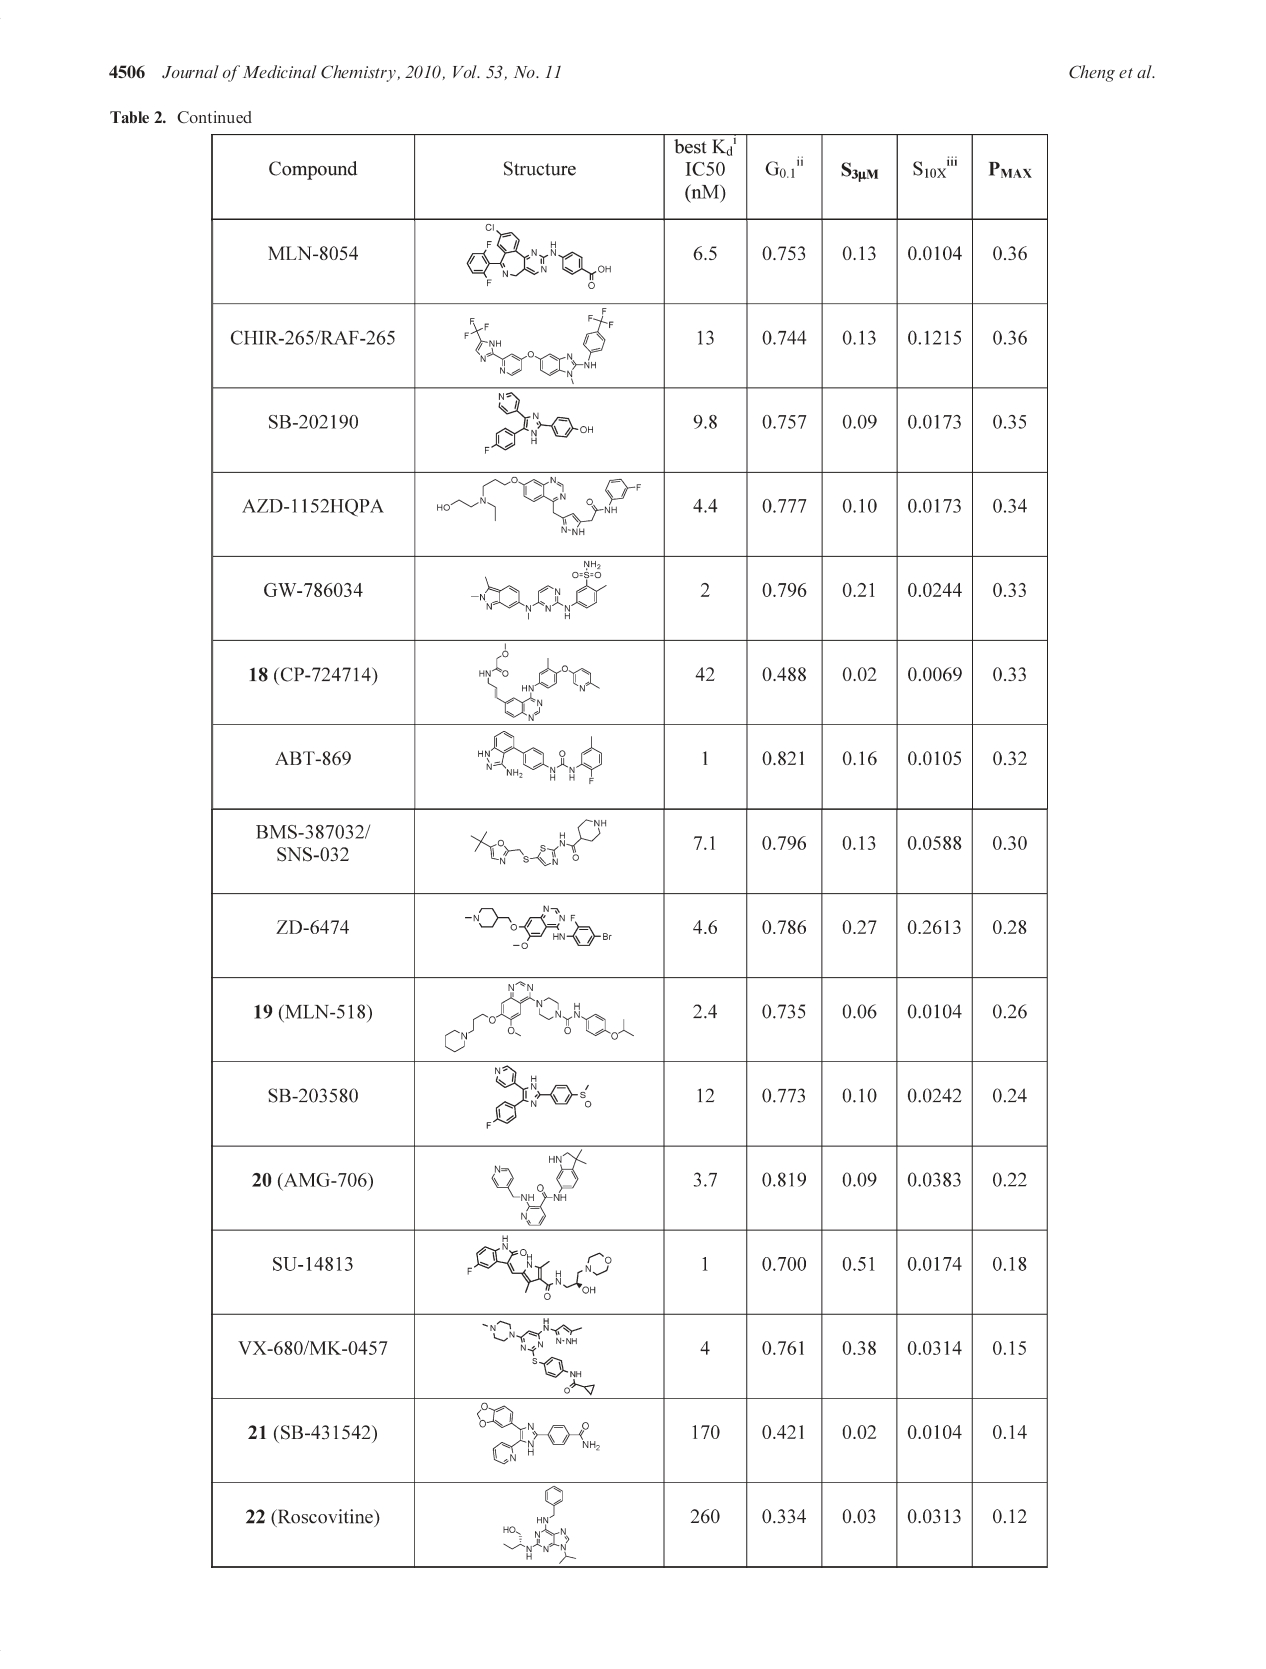exist_molecular: (443, 980, 640, 1055), (435, 476, 644, 537), (464, 309, 616, 386), (464, 223, 613, 293), (477, 642, 601, 723), (465, 1233, 613, 1301), (481, 1317, 596, 1395), (469, 559, 609, 622), (475, 1400, 602, 1468), (492, 1148, 588, 1227), (481, 390, 594, 456), (477, 727, 602, 786), (469, 817, 609, 868), (485, 1064, 592, 1132), (465, 903, 612, 951), (501, 1485, 577, 1567)
